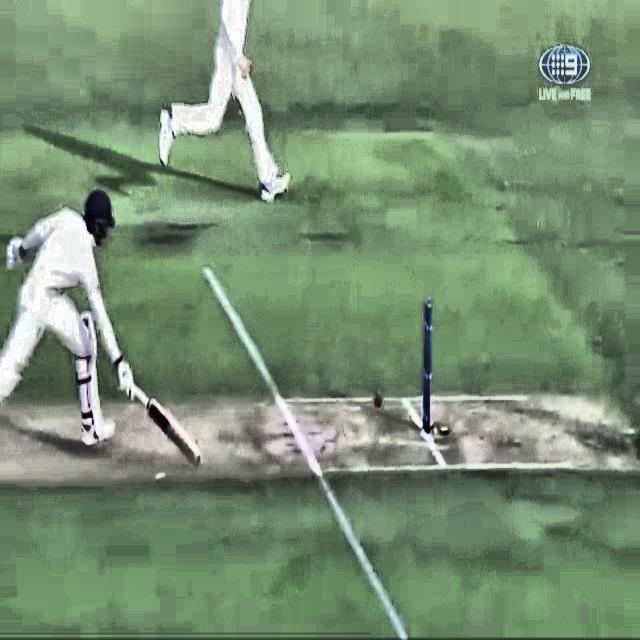Ball: (369, 389, 388, 414)
Bat: (117, 378, 210, 467)
Pitch_Line: (201, 264, 410, 640)
Undis_Wicket: (415, 294, 443, 439)
